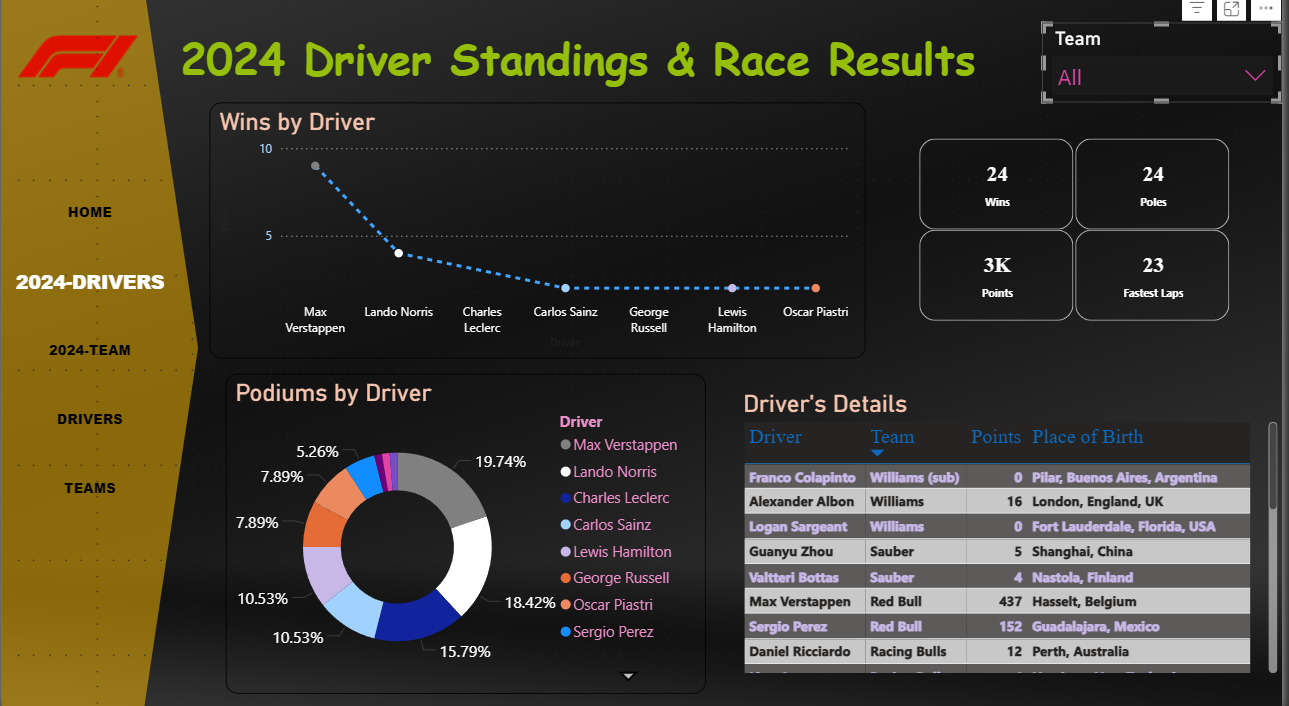

What the dashboard file says about the page in this screenshot:
{"tool":"powerbi","page":{"name":"2024-DRIVERS","canvas":[1280,720],"ordinal":1},"visuals":[{"type":"textbox","box":[160,32,832,96],"z":0},{"type":"tableEx","title":"Driver''s Details","fields":{"Values":["f1 driver result.Driver","f1 driver result.Team","f1 driver result.Points","f1 drivers.Place of Birth"]},"box":[736,400,544,288],"z":1000},{"type":"donutChart","title":"Podiums by Driver","fields":{"Category":["f1 driver result.Driver"],"Y":["f1 driver result.Podiums"]},"box":[224,384,480,320],"z":2000},{"type":"cardVisual","title":"DRIVERS CHAMPIONSHIPS","fields":{"Data":["f1 driver result.Wins","f1 driver result.Poles","f1 driver result.Points","f1 driver result.Fastest Laps"]},"box":[912,144,320,192],"z":3000},{"type":"slicer","fields":{"Values":["f1 driver result.Team"]},"box":[1040,32,240,80],"z":4000},{"type":"pageNavigator","box":[0,192,176,336],"z":5000},{"type":"lineChart","title":"Wins  by Driver","fields":{"Category":["f1 driver result.Driver"],"Y":["f1 driver result.Wins"]},"box":[208,112,656,256],"z":7000}]}

Visuals, with their boxes on the page's 1280x720 design canvas (x1, y1, x2, y2). These are canvas units, not pixel positions in the 1289x706 screenshot, which may show the page scaled, cropped or inside an application window:
textbox: <box>160,32,992,128</box>
"Driver''s Details" tableEx: <box>736,400,1280,688</box>
"Podiums by Driver" donutChart: <box>224,384,704,704</box>
"DRIVERS CHAMPIONSHIPS" cardVisual: <box>912,144,1232,336</box>
slicer - f1 driver result.Team: <box>1040,32,1280,112</box>
pageNavigator: <box>0,192,176,528</box>
"Wins  by Driver" lineChart: <box>208,112,864,368</box>
